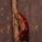cockroach: (16, 13, 28, 38)
